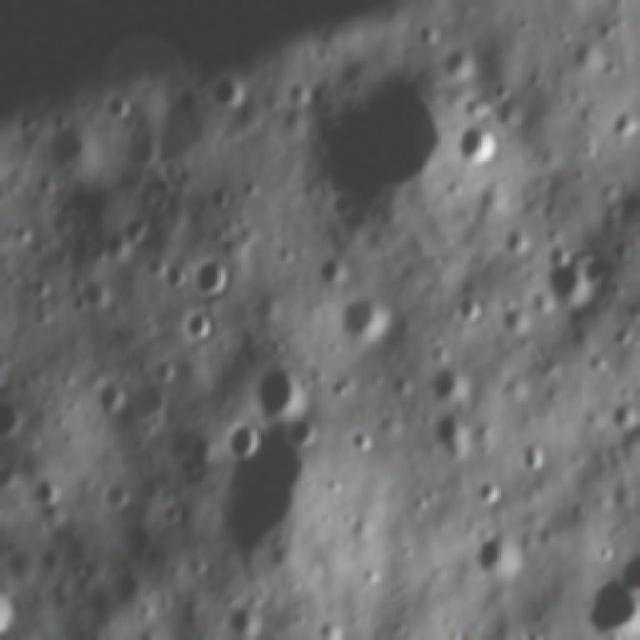crater: (282, 66, 461, 240), (22, 114, 101, 184), (241, 355, 313, 430), (540, 246, 608, 317), (583, 568, 639, 637), (446, 115, 508, 177), (336, 288, 402, 344), (122, 373, 182, 432), (473, 525, 529, 587), (427, 36, 484, 95), (406, 409, 469, 454), (185, 256, 242, 304), (222, 414, 266, 468), (448, 284, 494, 333), (429, 358, 476, 404), (69, 272, 114, 317), (180, 303, 220, 352), (207, 71, 256, 111), (224, 600, 265, 638), (498, 223, 537, 262), (310, 253, 348, 293), (608, 103, 638, 149), (27, 476, 64, 513), (468, 476, 506, 512), (160, 258, 192, 299), (100, 478, 135, 514), (520, 440, 551, 477), (103, 88, 135, 123), (316, 616, 346, 638)
